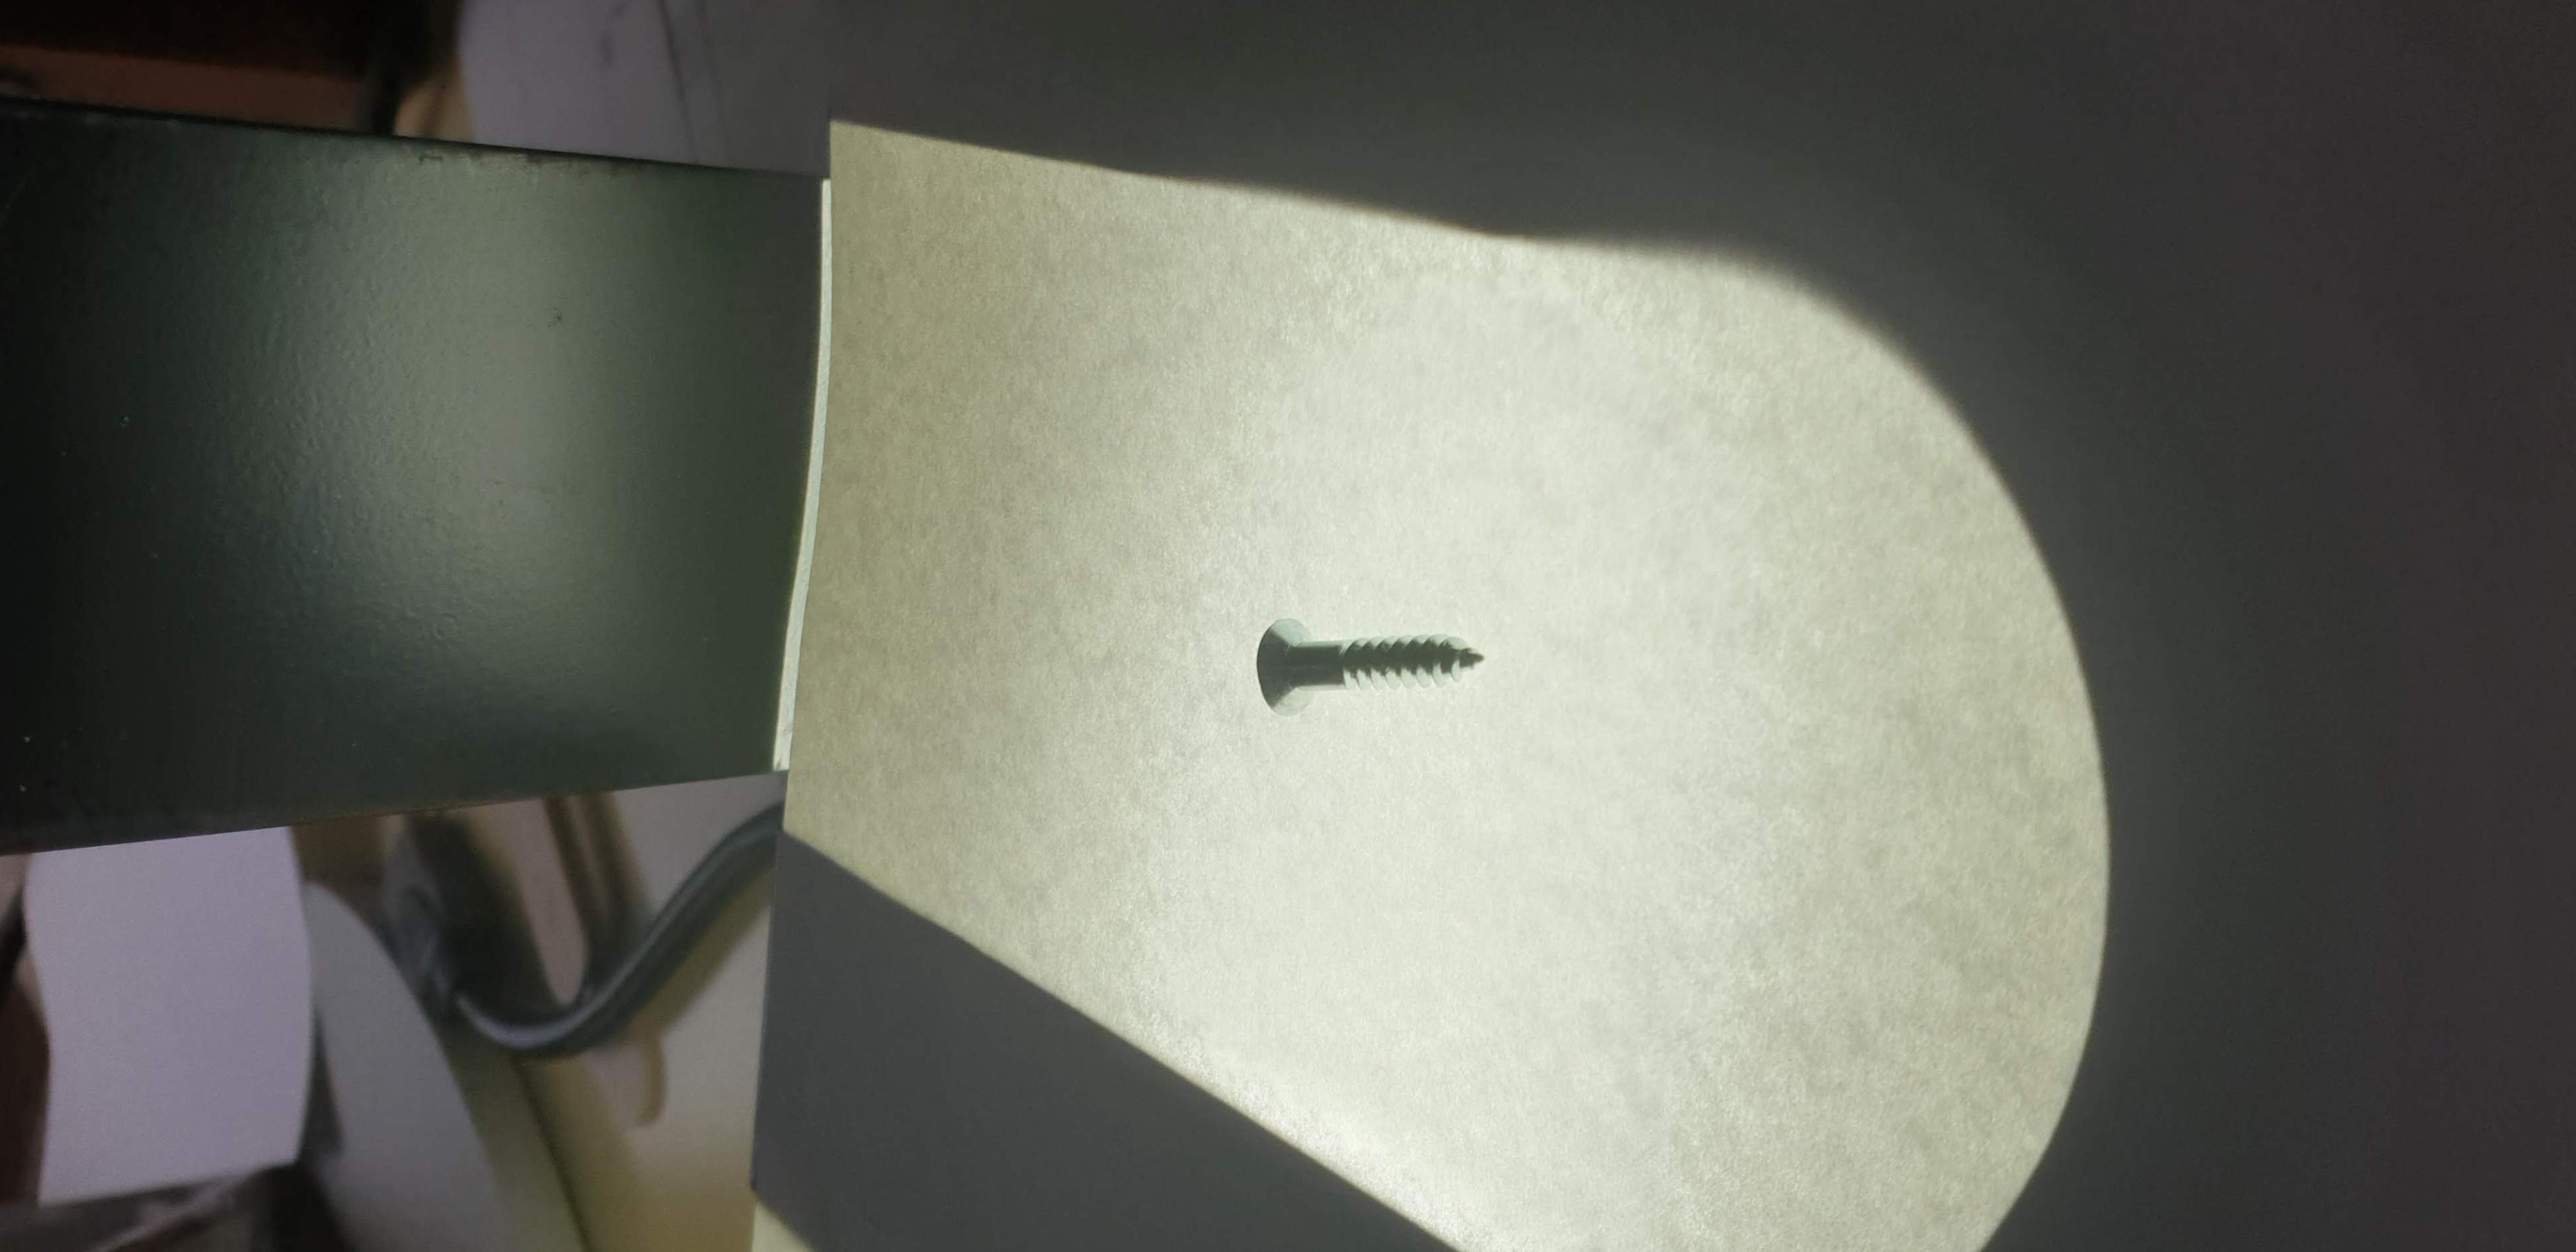S005: (1203, 582, 1541, 764)
